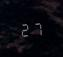seven: (31, 20, 42, 36)
two: (19, 20, 30, 37)
